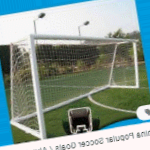goals: (8, 33, 140, 135)
